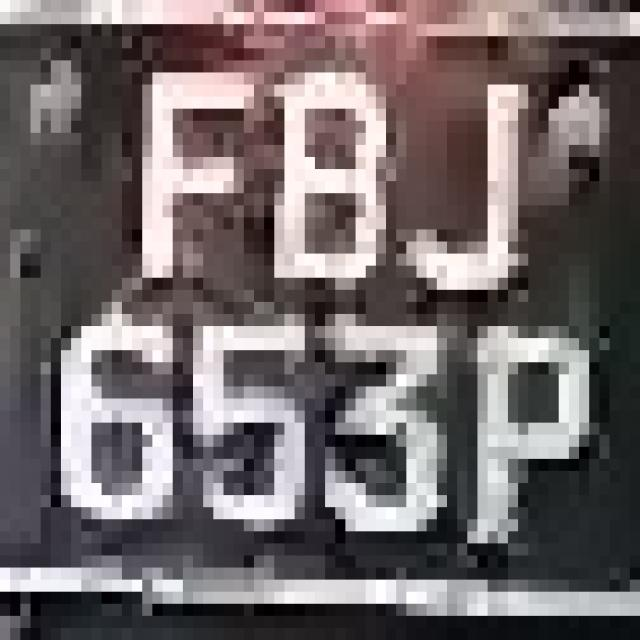3: (294, 254, 426, 556)
5: (183, 290, 305, 531)
6: (41, 302, 182, 555)
B: (224, 24, 386, 338)
F: (112, 36, 254, 326)
J: (376, 36, 559, 302)
P: (468, 290, 590, 567)
